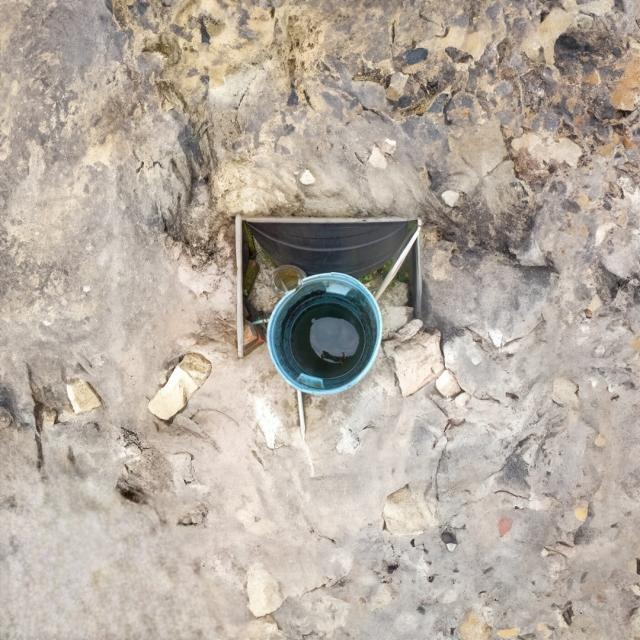Breeding Place: (224, 228, 425, 417)
